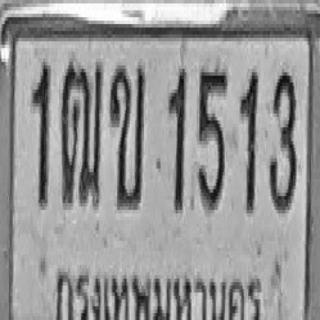A02: (109, 62, 145, 210)
A18: (60, 60, 103, 208)
N01: (239, 69, 258, 213), (168, 67, 186, 212), (32, 60, 50, 205)
N03: (269, 69, 297, 213)
N05: (197, 67, 227, 212)
